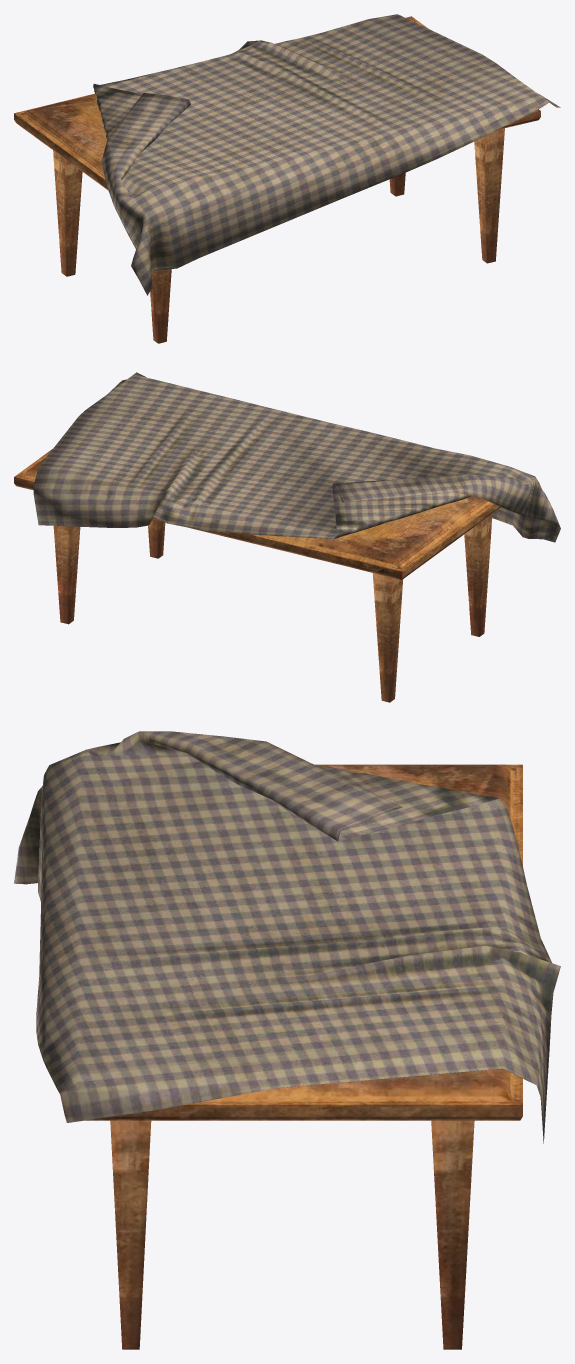
The model's file is dining_table.glb.
The picture shows the model from 3 angles, top to bottom: view 1: azimuth 30°, elevation 25°; view 2: azimuth 150°, elevation 25°; view 3: azimuth 270°, elevation 25°; orthographic projection. The views are drawn at different scales.
Visible parts, largest first — view 1: dining_table; view 2: dining_table; view 3: dining_table.
Boxes of the visible parts, bbox=[...] form: dining_table: bbox=[14, 14, 560, 343]; dining_table: bbox=[14, 372, 560, 702]; dining_table: bbox=[14, 731, 560, 1349].
Size of the model in its own units: 2.26 by 0.877 by 1.39.
1 material, 1 textured.
